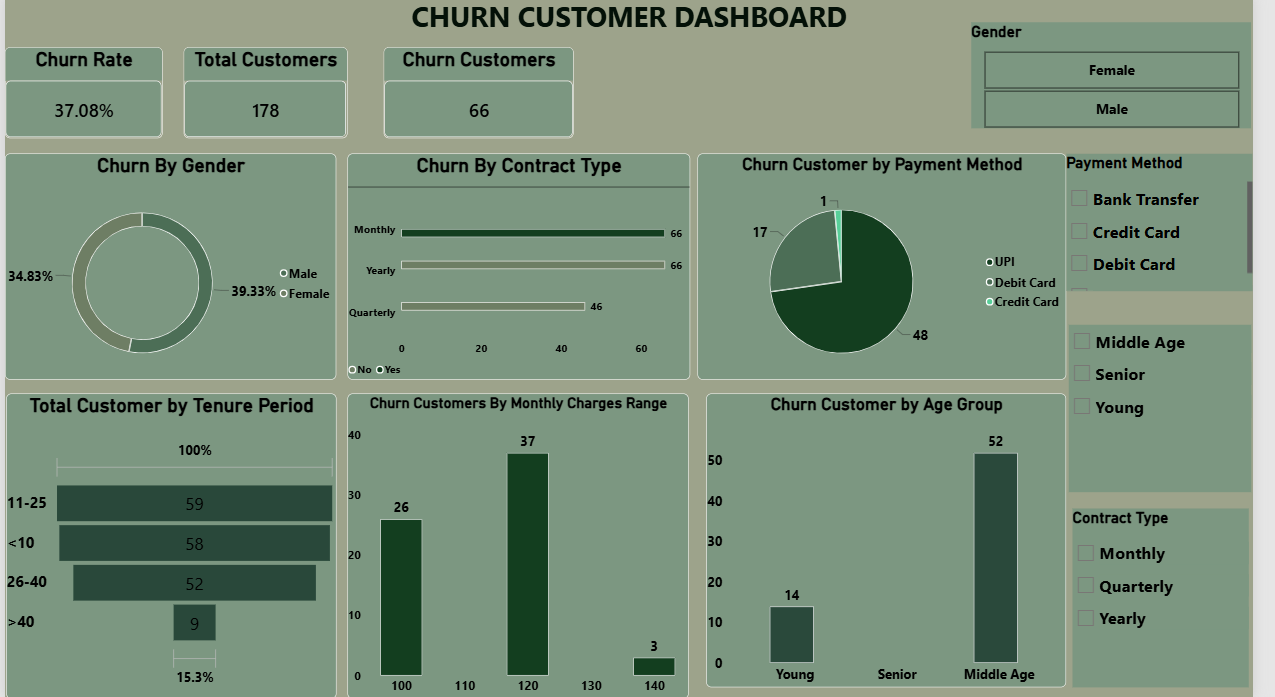

Layout of this report page (visuals, bound fields, positions):
{"tool":"powerbi","page":{"name":"Page 1","canvas":[1920,1080],"ordinal":0},"visuals":[{"type":"cardVisual","title":"Churn Rate ","fields":{"Data":["Measure.Churn Rate"]},"box":[0,78.8,242.3,140.4],"z":0},{"type":"textbox","box":[0,2.1,1920.4,78.2],"z":1000},{"type":"cardVisual","title":"Total Customers ","fields":{"Data":["Measure.Total Customer"]},"box":[275,78.8,251.9,140.4],"z":2000},{"type":"cardVisual","title":"Churn Customers","fields":{"Data":["Measure.Churn Customer"]},"box":[582.7,78.8,292.3,140.4],"z":3000},{"type":"donutChart","title":"Churn By Gender","fields":{"Category":["Customer_Churn_Data.Gender"],"Y":["Measure.Churn Rate"]},"box":[0,242.3,494.2,348.1],"z":4000},{"type":"clusteredBarChart","title":"Churn By Contract Type","fields":{"Category":["Customer_Churn_Data.Contract Type"],"Series":["Customer_Churn_Data.Churn"],"Y":["CountNonNull(Customer_Churn_Data.CustomerID)"]},"box":[509.6,244.2,526.9,348.1],"z":5000},{"type":"funnel","fields":{"Category":["Customer_Churn_Data.Tenure Period "],"Y":["Measure.Total Customer"]},"box":[1.9,611.5,507.7,469.2],"z":6000},{"type":"columnChart","title":"Churn Customers By Monthly Charges Range","fields":{"Category":["Customer_Churn_Data.Monthly Charges (bins)"],"Y":["Measure.Churn Customer"]},"box":[526.9,611.5,525,469.2],"z":7000},{"type":"pieChart","fields":{"Category":["Customer_Churn_Data.Payment Method"],"Y":["Measure.Churn Customer"]},"box":[1053.8,242.3,567.3,348.1],"z":8000},{"type":"slicer","title":"Gender","fields":{"Values":["Customer_Churn_Data.Gender"]},"box":[1481.6,68.1,430.8,163.5],"z":9000},{"type":"slicer","fields":{"Values":["Customer_Churn_Data.Age Group "]},"box":[1636.5,505.8,280.8,257.7],"z":10000},{"type":"slicer","title":"Contract Type","fields":{"Values":["Customer_Churn_Data.Contract Type"]},"box":[1642.3,788.5,271.2,275],"z":11000},{"type":"slicer","title":"Payment Method ","fields":{"Values":["Customer_Churn_Data.Payment Method"]},"box":[1630.8,275,286.5,211.5],"z":12000},{"type":"columnChart","fields":{"Category":["Customer_Churn_Data.Age Group "],"Y":["Measure.Churn Customer"]},"box":[1080.4,611,515.4,469.2],"z":13000}]}

Visuals, with their boxes in screenshot pixels (x1, y1, x2, y2), scaled from the page's 1920x1080 canvas onto the 1275x697 screenshot:
"Churn Rate " cardVisual: (x1=0, y1=51, x2=161, y2=141)
textbox: (x1=0, y1=1, x2=1274, y2=52)
"Total Customers " cardVisual: (x1=183, y1=51, x2=350, y2=141)
"Churn Customers" cardVisual: (x1=387, y1=51, x2=581, y2=141)
"Churn By Gender" donutChart: (x1=0, y1=156, x2=328, y2=381)
"Churn By Contract Type" clusteredBarChart: (x1=338, y1=158, x2=688, y2=382)
funnel - Customer_Churn_Data.Tenure Period  x Measure.Total Customer: (x1=1, y1=395, x2=338, y2=696)
"Churn Customers By Monthly Charges Range" columnChart: (x1=350, y1=395, x2=699, y2=696)
pieChart - Customer_Churn_Data.Payment Method x Measure.Churn Customer: (x1=700, y1=156, x2=1077, y2=381)
"Gender" slicer: (x1=984, y1=44, x2=1270, y2=149)
slicer - Customer_Churn_Data.Age Group : (x1=1087, y1=326, x2=1273, y2=493)
"Contract Type" slicer: (x1=1091, y1=509, x2=1271, y2=686)
"Payment Method " slicer: (x1=1083, y1=177, x2=1273, y2=314)
columnChart - Customer_Churn_Data.Age Group  x Measure.Churn Customer: (x1=717, y1=394, x2=1060, y2=696)
